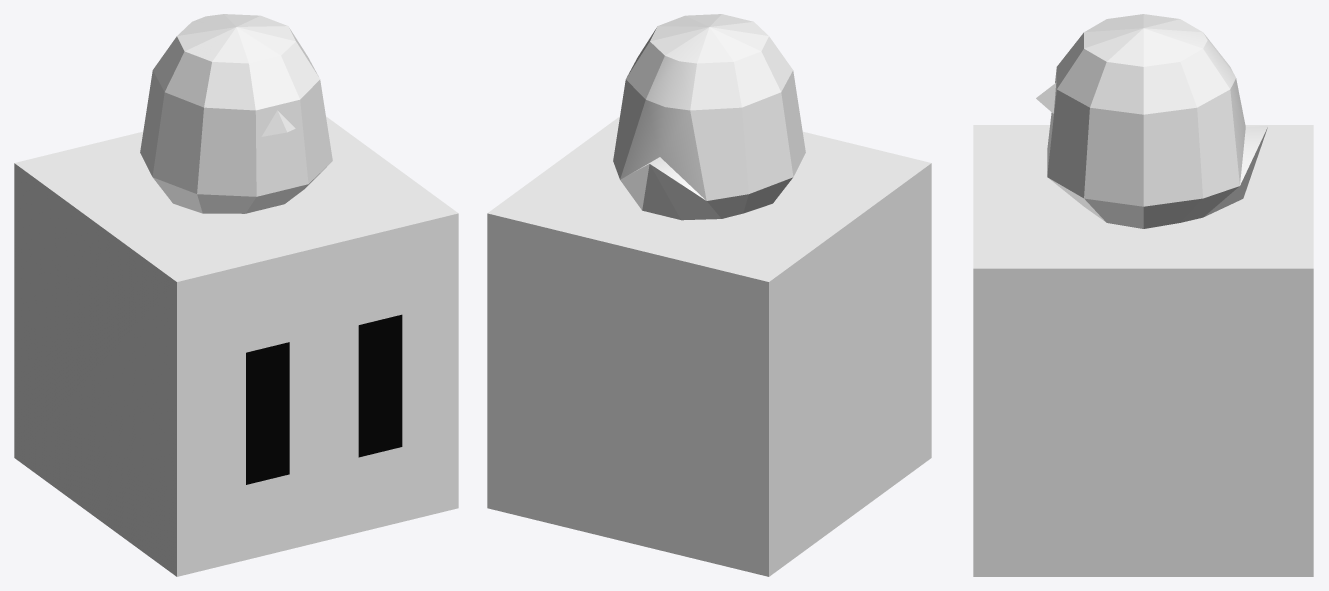
Rendered from tori.obj.
The picture shows the model from 3 angles, left to right: view 1: azimuth 30°, elevation 25°; view 2: azimuth 150°, elevation 25°; view 3: azimuth 270°, elevation 25°; orthographic projection. The views are drawn at different scales.
Parts seen in each view (by area): view 1: pCube1, pCone2, pPlane2, pPlane1; view 2: pCube1, pCone2, pPlane3; view 3: pCube1, pCone2.
Part boxes in pixels (x1,y1,x2,y2): pCube1: (14, 116, 458, 576); pCone2: (140, 14, 332, 213); pPlane2: (358, 314, 402, 457); pPlane1: (246, 342, 289, 484); pCube1: (487, 116, 931, 576); pCone2: (613, 14, 805, 220); pPlane3: (534, 343, 590, 415); pCube1: (973, 125, 1313, 576); pCone2: (1036, 14, 1267, 228).
Size of the model in its own units: 5 by 7.73 by 5.21.
Materials: 2 (1 with a texture image).
